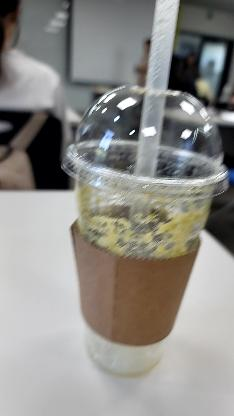Plastic Cup: (55, 79, 232, 379), (60, 80, 230, 198)
